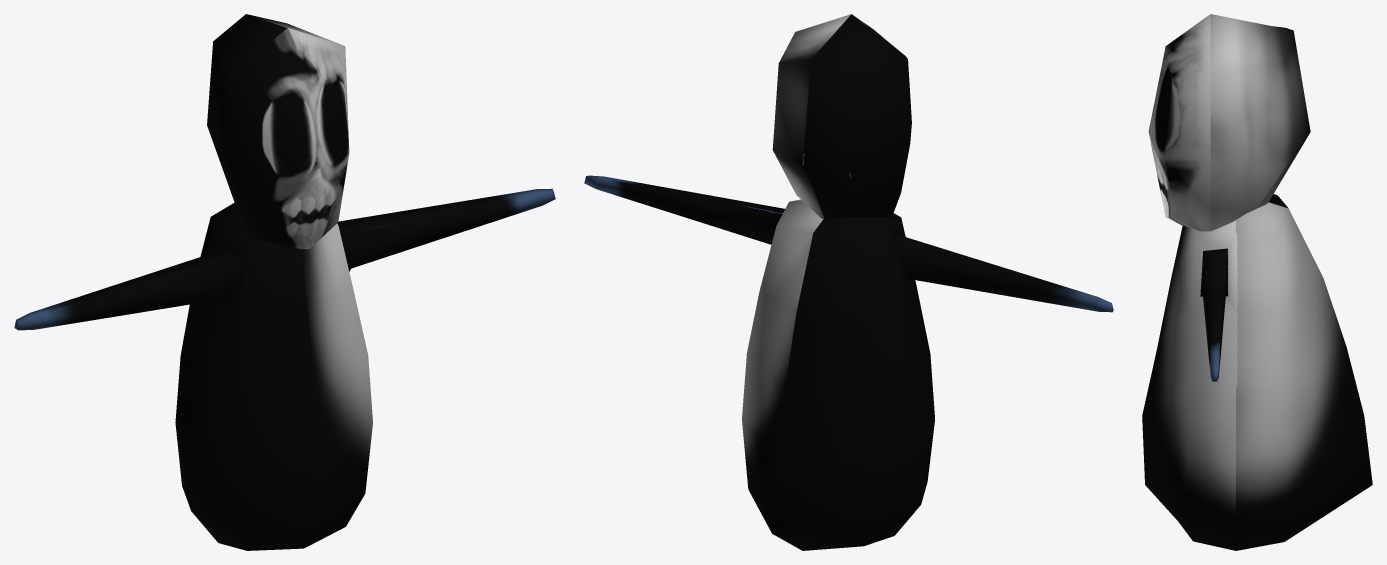
The model's file is MonsterPlayerModel.fbx.
3 renders of one model, left to right at view 1: azimuth 30°, elevation 25°; view 2: azimuth 150°, elevation 25°; view 3: azimuth 270°, elevation 25°, orthographic. The views are drawn at different scales.
Visible parts, largest first — view 1: Cube.001, Cube; view 2: Cube.001, Cube; view 3: Cube.001, Cube.
Boxes of the visible parts, x1,y1,x2,y2 form: Cube.001: (14, 188, 555, 550); Cube: (207, 14, 349, 250); Cube.001: (584, 175, 1113, 550); Cube: (772, 14, 911, 219); Cube.001: (1142, 194, 1372, 550); Cube: (1148, 14, 1310, 231).
Bounding box in the file's own units: 791 × 720 × 293.
